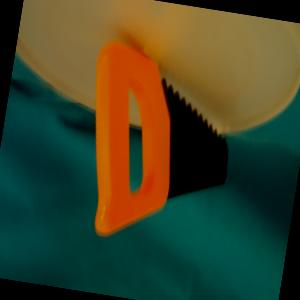serrote: (69, 36, 244, 254)
